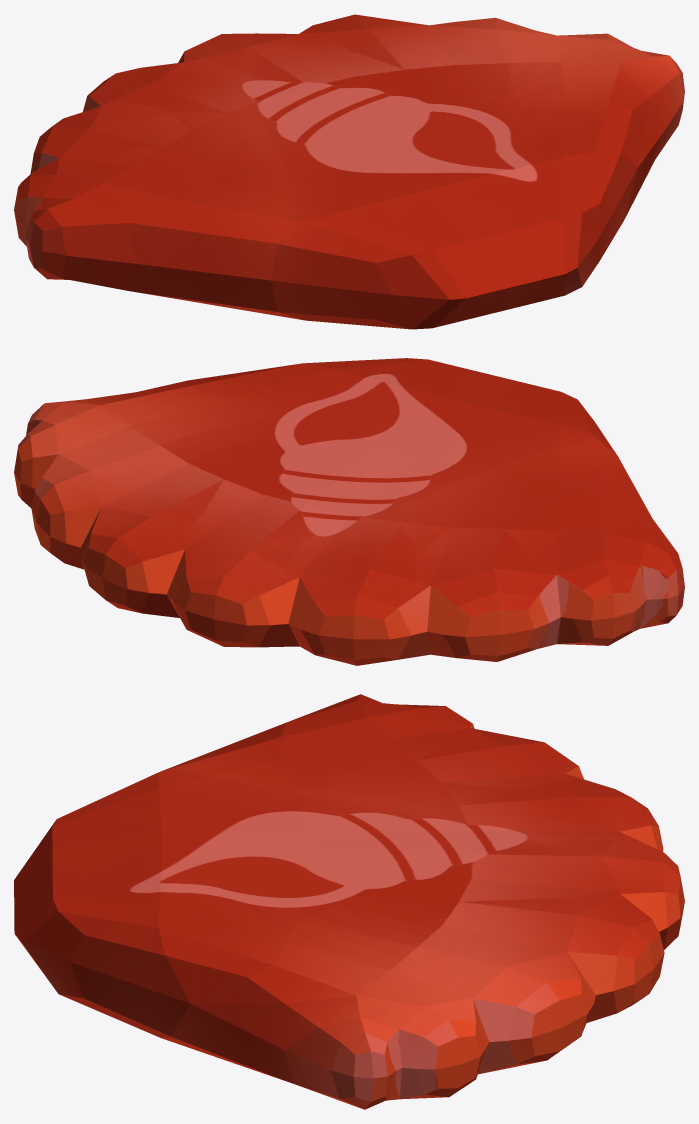
The model's file is shell2.glb.
The picture shows the model from 3 angles, top to bottom: view 1: azimuth 30°, elevation 25°; view 2: azimuth 150°, elevation 25°; view 3: azimuth 270°, elevation 25°; orthographic projection. The views are drawn at different scales.
Visible parts, largest first — view 1: shell.001; view 2: shell.001; view 3: shell.001.
Boxes of the visible parts, box(x1,y1,x2,y2) form: shell.001: box(14, 14, 684, 329); shell.001: box(14, 358, 684, 665); shell.001: box(14, 694, 684, 1109).
Bounding box in the file's own units: 1.67 × 0.2507 × 1.34.
Materials: 1 (1 with a texture image).
